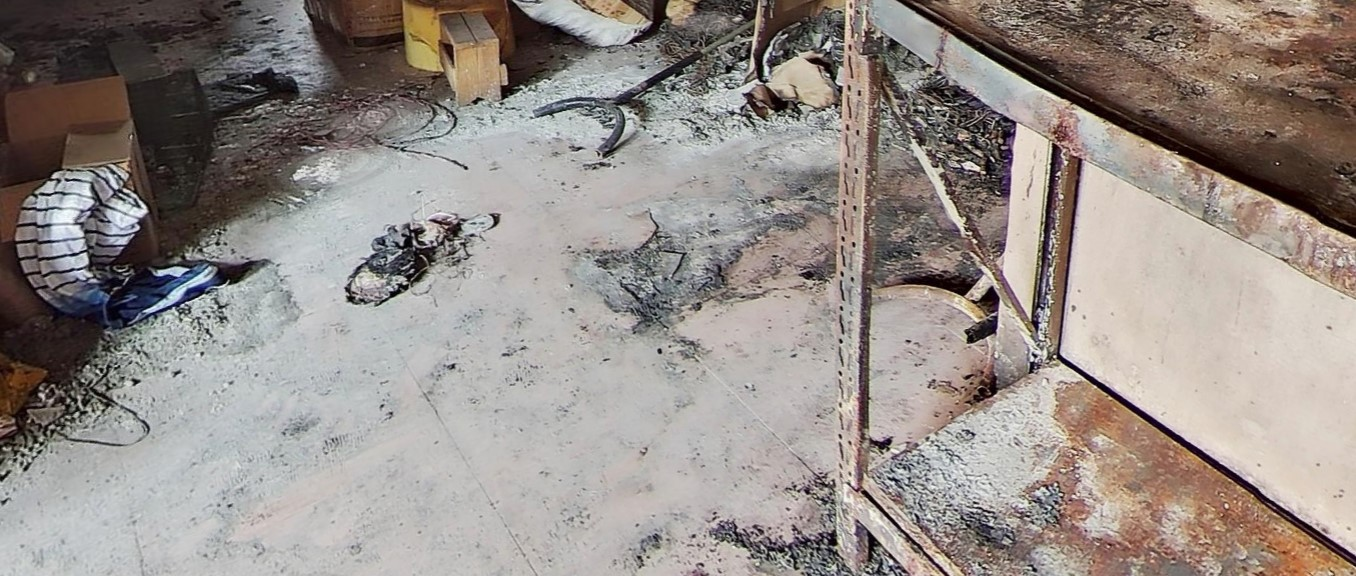Damage_level1: (1090, 180, 1341, 472), (1021, 138, 1038, 289)
